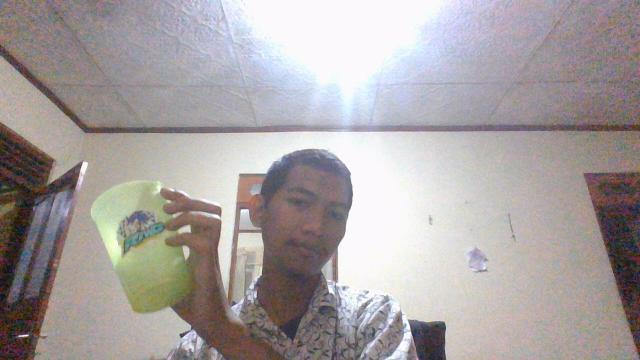botol-hijau: (89, 178, 195, 314)
